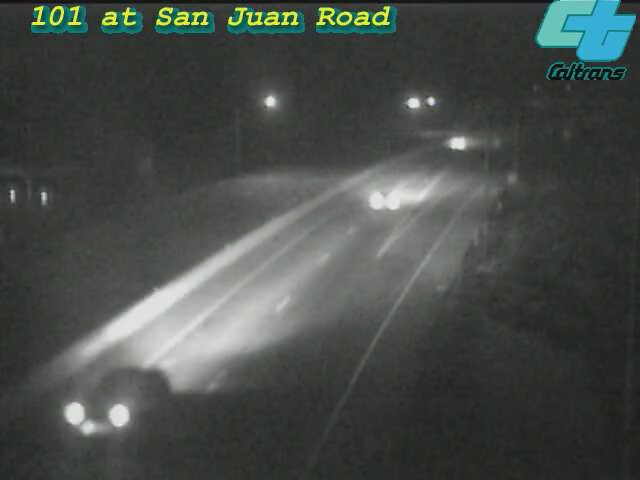vehicle: (69, 346, 179, 456), (346, 156, 426, 236), (434, 116, 484, 166)
